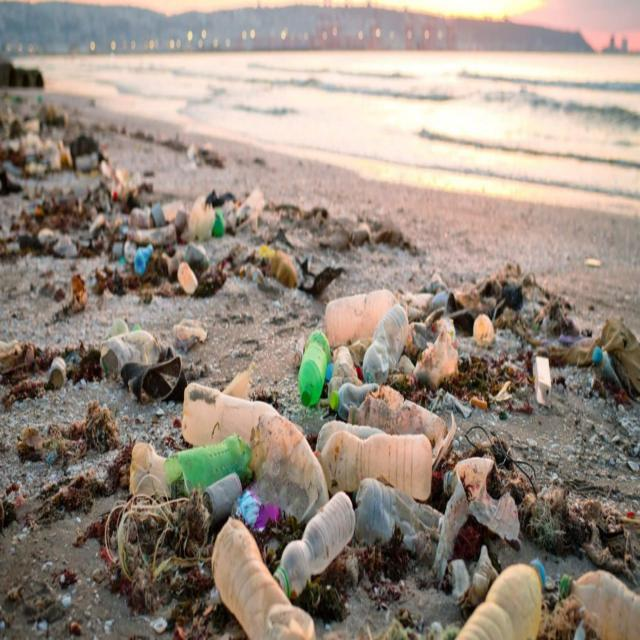Plastics: (139, 258, 637, 640), (99, 143, 299, 303)
